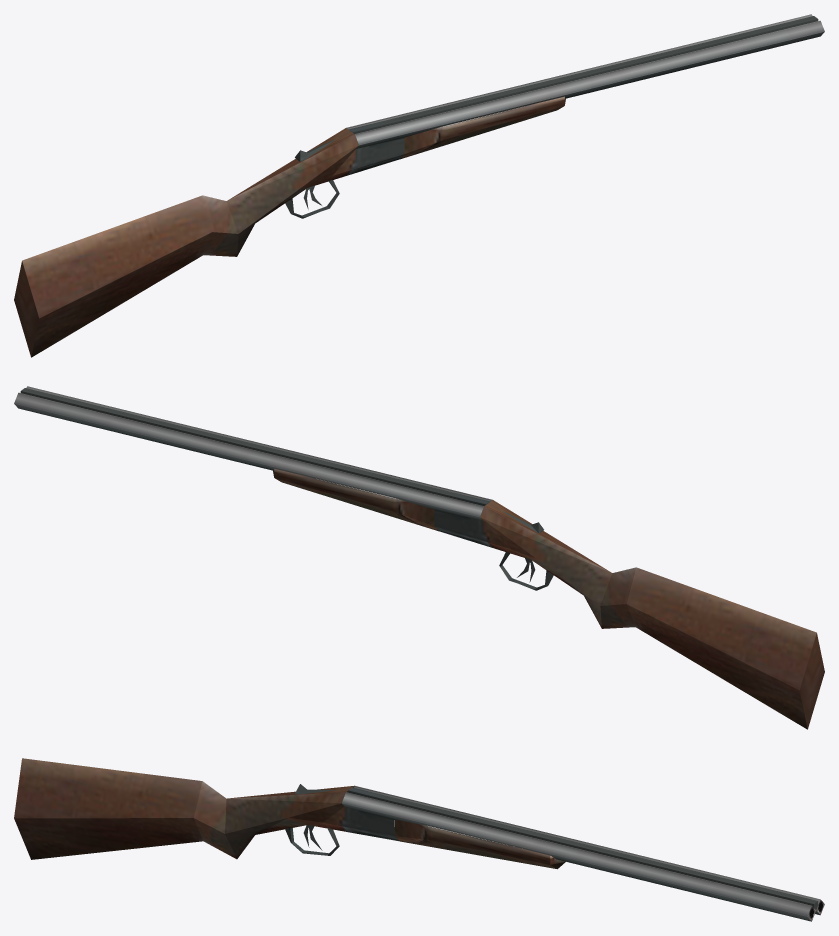
The model's file is shotgun.glb.
3 views of the same model, one above another, from view 1: azimuth 30°, elevation 25°; view 2: azimuth 150°, elevation 25°; view 3: azimuth 330°, elevation 25° (orthographic).
Visible parts, largest first — view 1: Body, HandGaurd&Barrel; view 2: Body, HandGaurd&Barrel; view 3: Body, HandGaurd&Barrel, Trigger&Trigger.
Boxes of the visible parts, box(x1,y1,x2,y2) form: Body: box(14, 128, 404, 357); HandGaurd&Barrel: box(346, 14, 824, 159); Body: box(434, 500, 824, 729); HandGaurd&Barrel: box(14, 386, 492, 531); Body: box(14, 758, 399, 859); HandGaurd&Barrel: box(342, 786, 824, 921); Trigger&Trigger: box(295, 784, 336, 850).
Bounding box in the file's own units: 3.91 × 0.7001 × 0.2154.
Materials: 3 (3 with a texture image).
